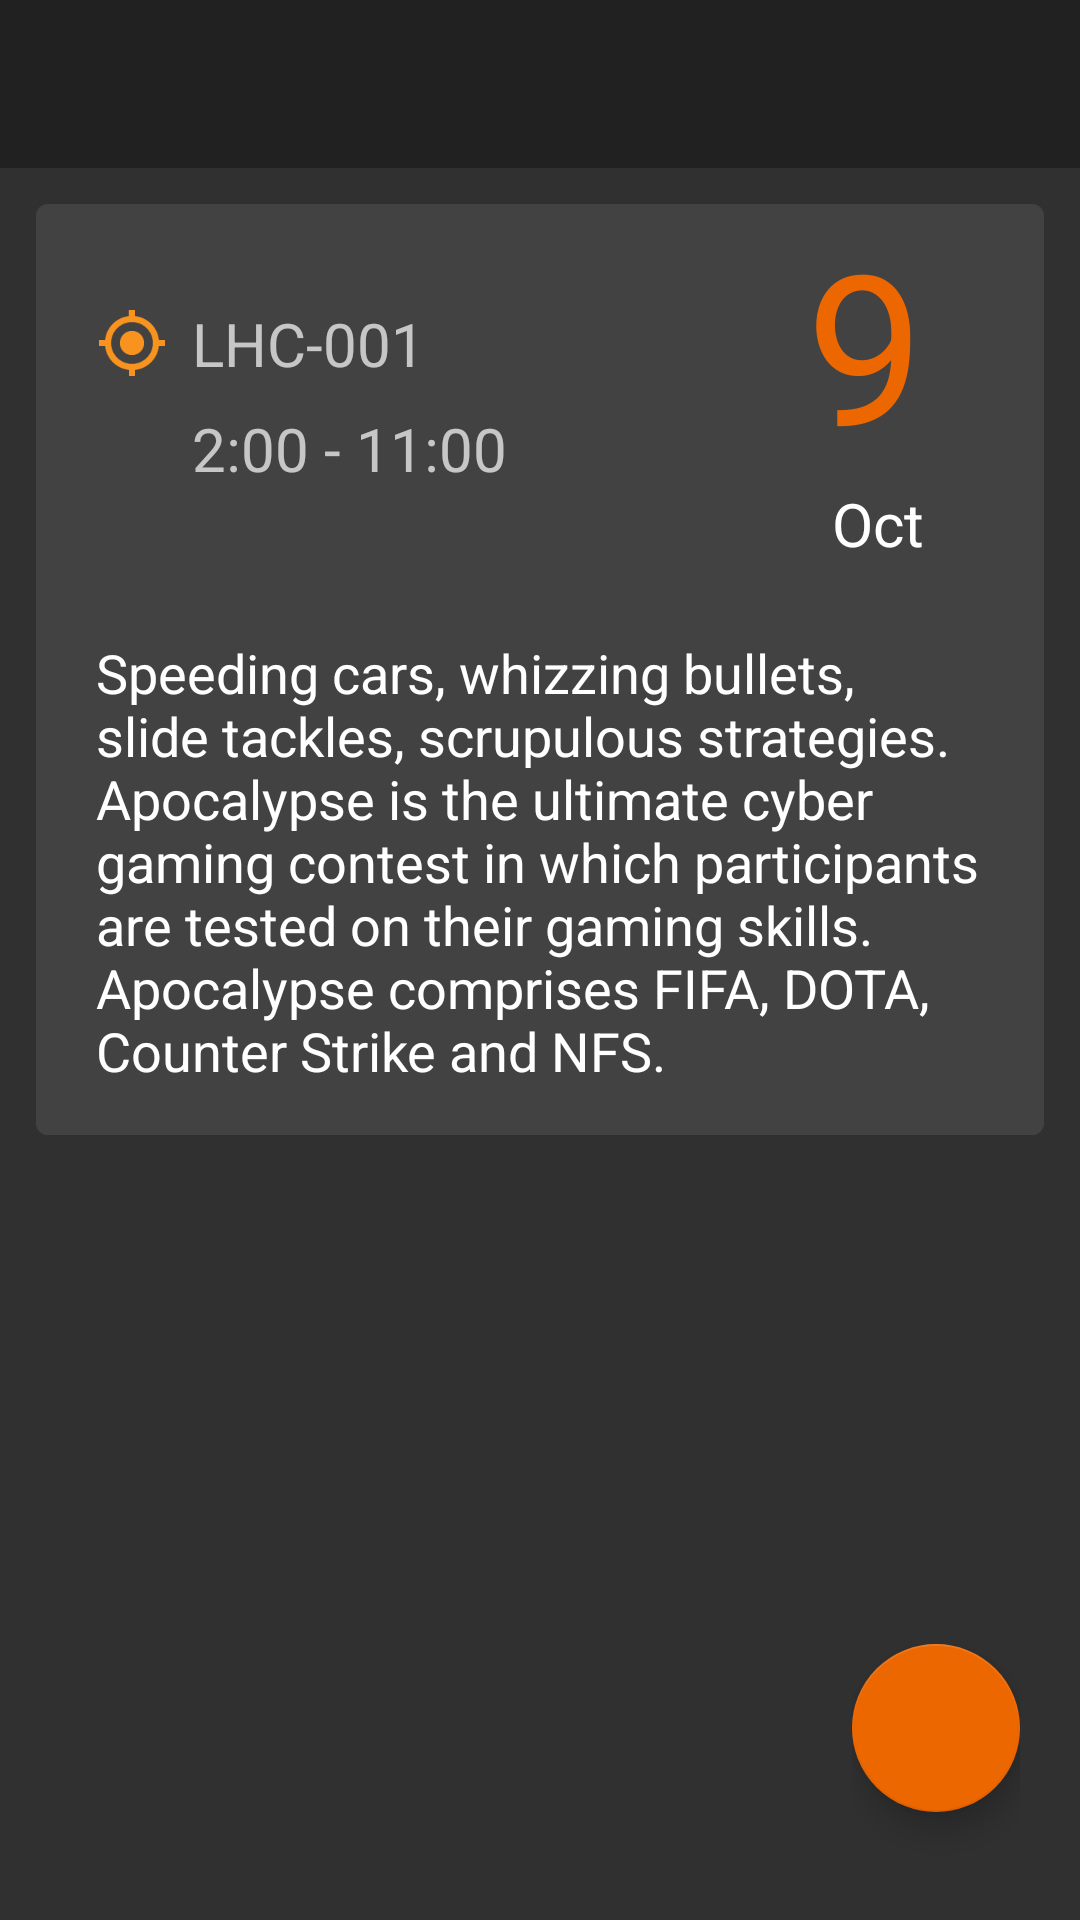

Named icons in this screenshot (1080px x 1920px) and their centers, (x,y):
location brown: (132,343)
